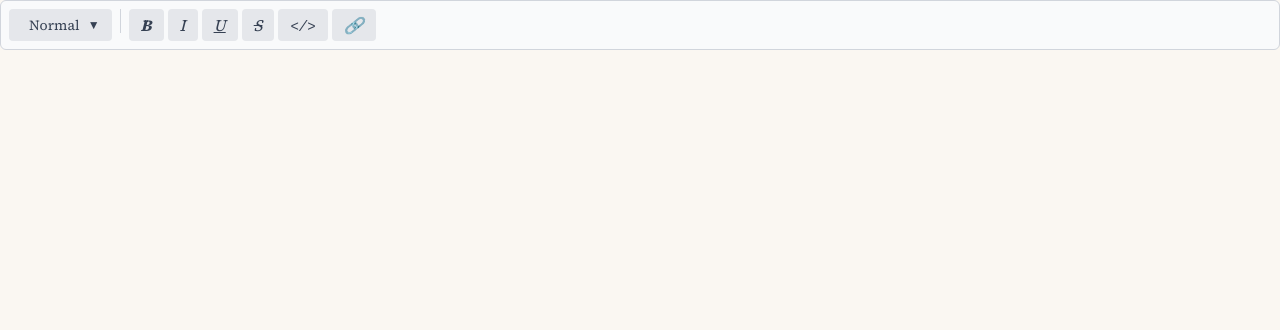
Test: ToolbarPlugin - Block Type Dropdown › clicking block options button shows dropdown
The image size is (1280, 330).
Click the button with aria-label "formatting options": (60, 25) [9,9,112,41]
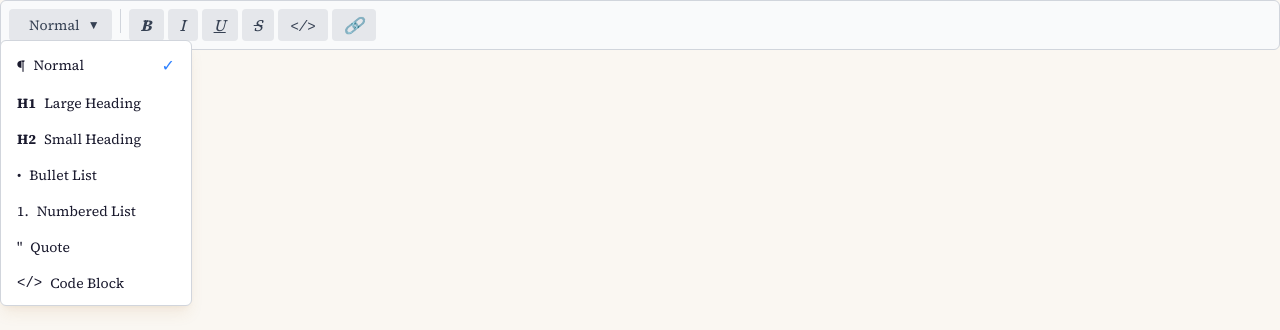
Check: the text "Large Heading" is shown, box [44,93,141,113]
Check: the text "Small Heading" is shown, box [44,129,141,149]
Check: the text "Bullet List" is shown, box [29,165,97,185]
